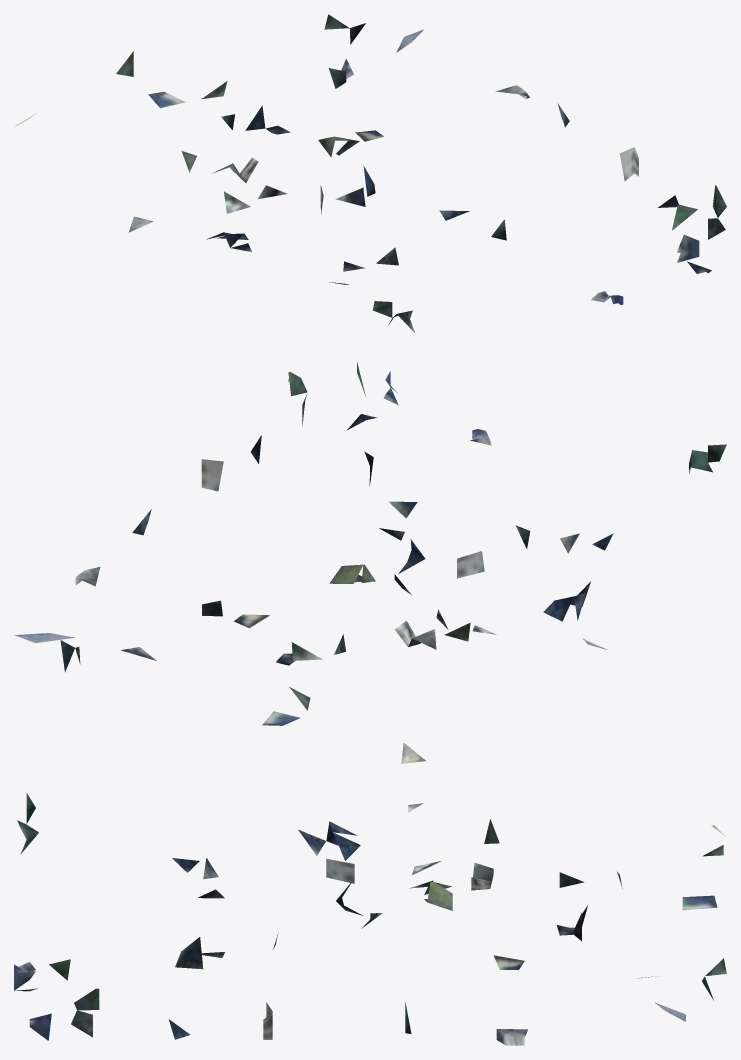
3 views of the same model, one above another, from view 1: azimuth 30°, elevation 25°; view 2: azimuth 150°, elevation 25°; view 3: azimuth 270°, elevation 25° (orthographic). The views are drawn at different scales.
Parts seen in each view (by area): view 1: 304362727043614355_1; view 2: 304362727043614355_1; view 3: 304362727043614355_1.
Part boxes in pixels (x1,y1,x2,y2): 304362727043614355_1: [15, 14, 726, 332]; 304362727043614355_1: [14, 362, 726, 763]; 304362727043614355_1: [14, 793, 726, 1045].
Bounding box in the file's own units: 107 × 15.41 × 139.
Materials: 1 (1 with a texture image).
